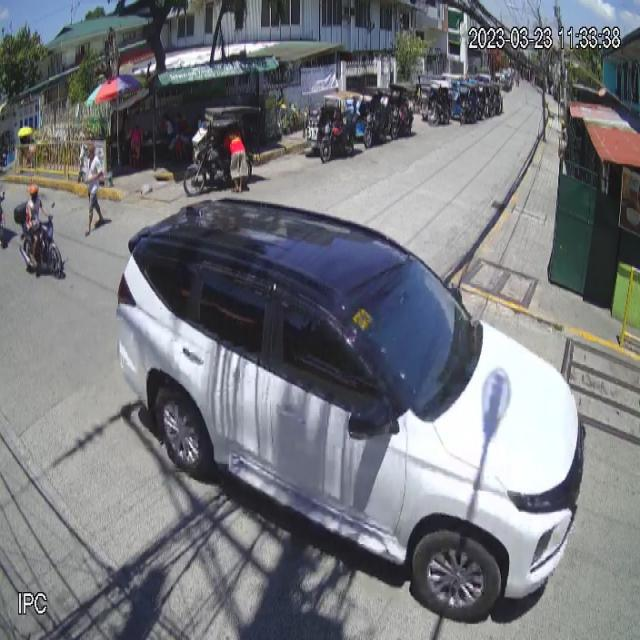Car: (116, 196, 586, 625)
